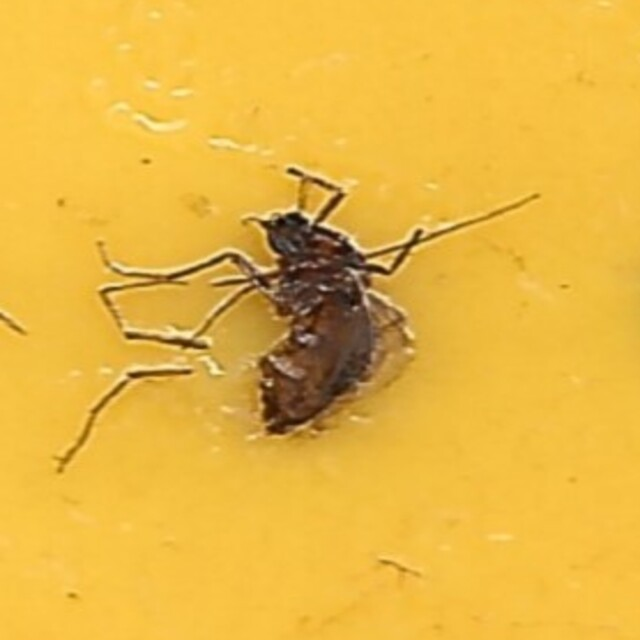Nematocera: (230, 195, 410, 445)
